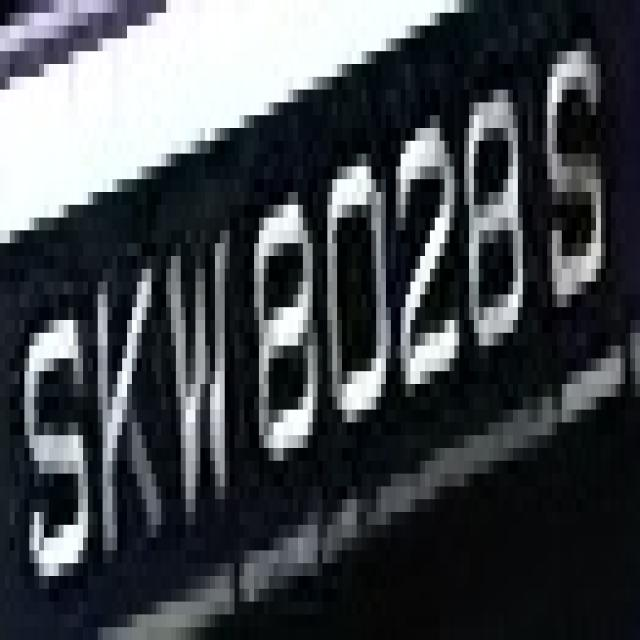0: (312, 154, 396, 460)
2: (376, 102, 464, 397)
8: (240, 154, 328, 486), (450, 51, 532, 397)
K: (83, 243, 171, 563)
S: (532, 13, 616, 320), (19, 282, 93, 576)
W: (152, 179, 240, 512)
